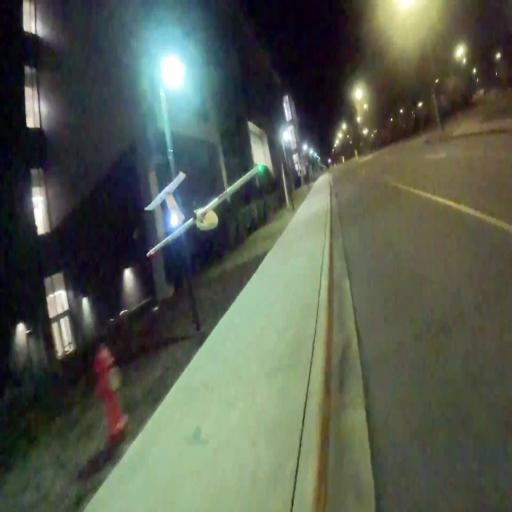uav: (141, 158, 265, 263)
